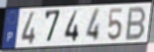4: (84, 6, 101, 43), (20, 10, 37, 46), (63, 9, 80, 43)
5: (106, 6, 124, 42)
7: (44, 10, 62, 45)
B: (124, 5, 148, 42)
